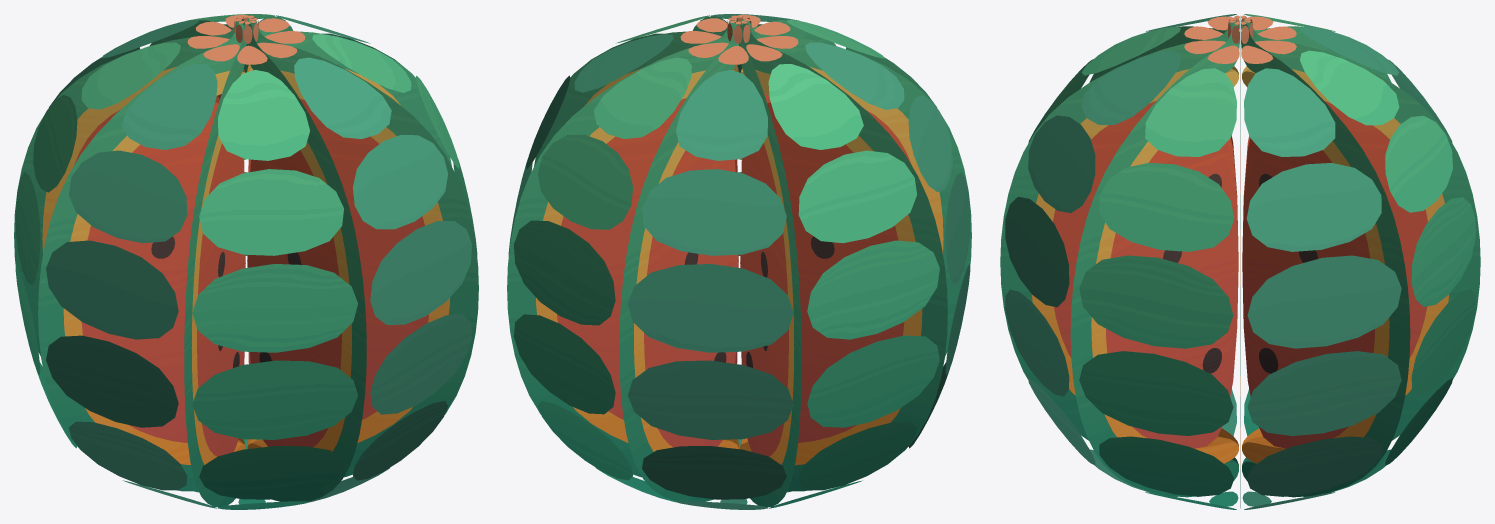
File: watermelon.glb
3 renders of one model, left to right at view 1: azimuth 30°, elevation 25°; view 2: azimuth 150°, elevation 25°; view 3: azimuth 270°, elevation 25°, orthographic.
Visible parts, largest first — view 1: slice.001, slice, slice.004, slice.003, slice.007, slice.002, slice.006, slice.005; view 2: slice.007, slice.002, slice.005, slice.001, slice.006, slice, slice.003, slice.004; view 3: slice.003, slice.006, slice.005, slice.004, slice, slice.002, slice.007, slice.001.
Boxes of the visible parts, left/top/right/bottom form: slice.001: left=38, top=21, right=245, bottom=508; slice: left=192, top=21, right=366, bottom=509; slice.004: left=247, top=20, right=478, bottom=502; slice.003: left=250, top=18, right=478, bottom=477; slice.007: left=15, top=19, right=243, bottom=492; slice.002: left=14, top=16, right=243, bottom=443; slice.006: left=246, top=15, right=451, bottom=443; slice.005: left=150, top=14, right=289, bottom=449; slice.007: left=739, top=21, right=947, bottom=508; slice.002: left=619, top=21, right=801, bottom=509; slice.005: left=514, top=20, right=738, bottom=502; slice.001: left=742, top=19, right=970, bottom=492; slice.006: left=507, top=18, right=735, bottom=477; slice: left=742, top=16, right=971, bottom=443; slice.003: left=534, top=15, right=737, bottom=443; slice.004: left=695, top=14, right=835, bottom=449; slice.003: left=1070, top=21, right=1240, bottom=509; slice.006: left=1240, top=21, right=1408, bottom=509; slice.005: left=1241, top=20, right=1480, bottom=497; slice.004: left=1005, top=20, right=1239, bottom=497; slice: left=1000, top=17, right=1238, bottom=465; slice.002: left=1243, top=17, right=1456, bottom=463; slice.007: left=1240, top=14, right=1391, bottom=465; slice.001: left=1089, top=14, right=1240, bottom=445.
Size of the model in its own units: 0.4472 by 0.4761 by 0.4472.
1 material, 1 textured.
